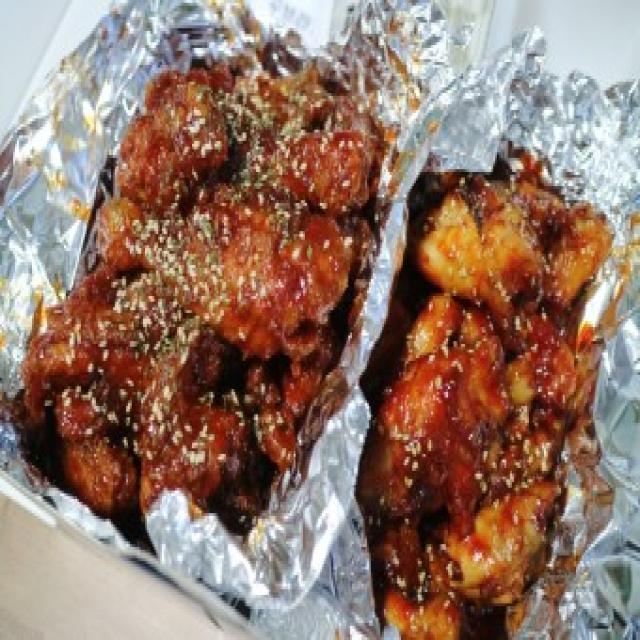Frango: (6, 36, 372, 555)
